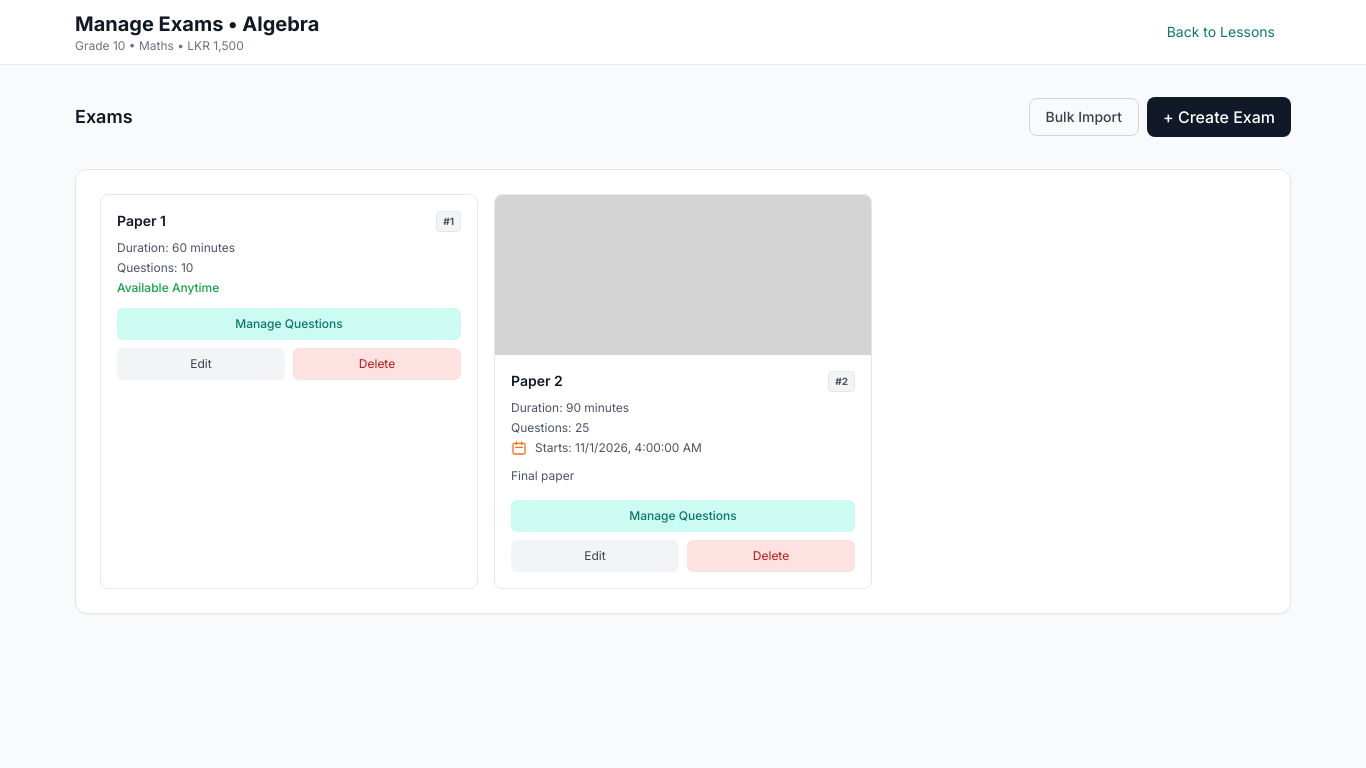
Lesson exams › create › suggests the next order number and creates a scheduled exam
Expected: the heading "Paper 1" is shown, [117,211,166,231]
Click the button "+ Create Exam" at (1219, 117), box [1147,97,1291,137]
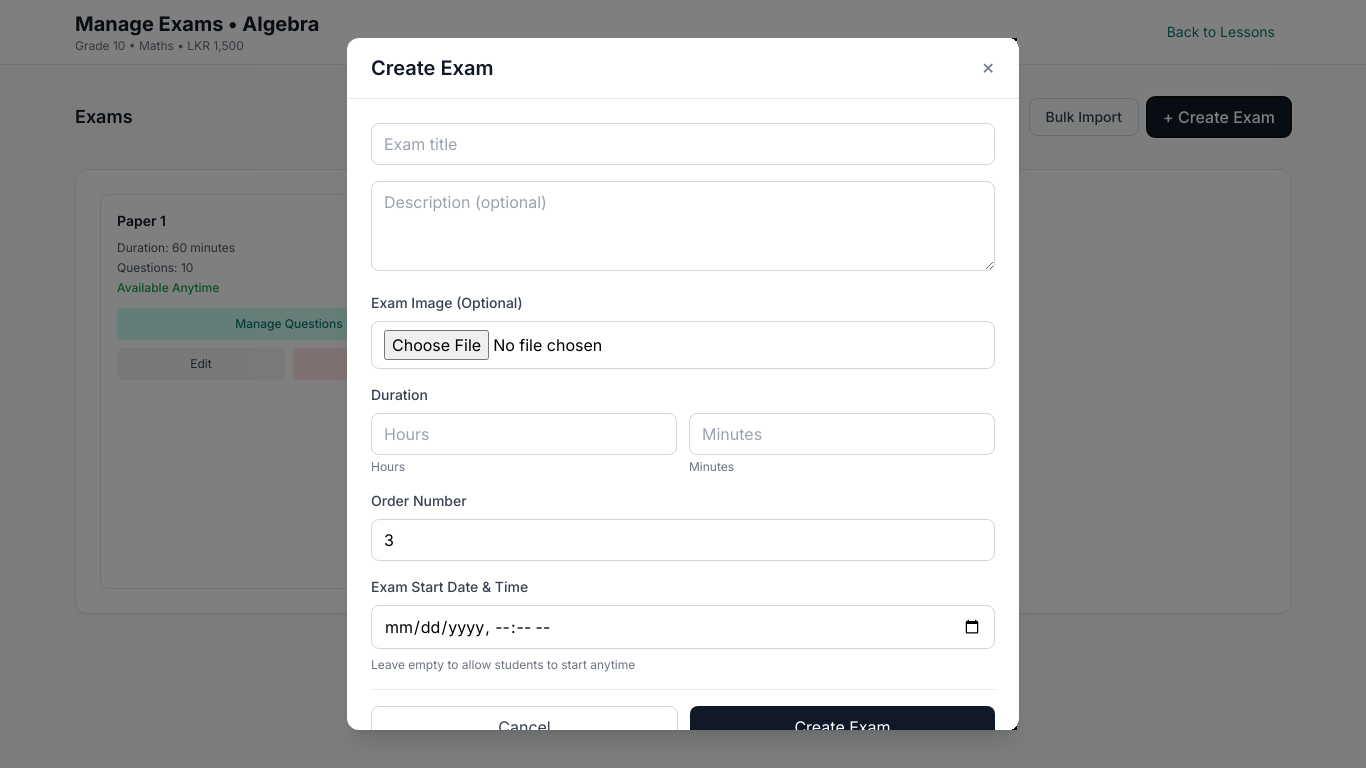
Expected: the number field with placeholder "Enter order number" holds "3", [371,519,995,561]
Type " Paper 3 " into the field with placeholder "Exam title" at (683, 144), box [371,123,995,165]
Type " Mock " into the text box with placeholder "Description (optional)" at (683, 226), box [371,181,995,271]
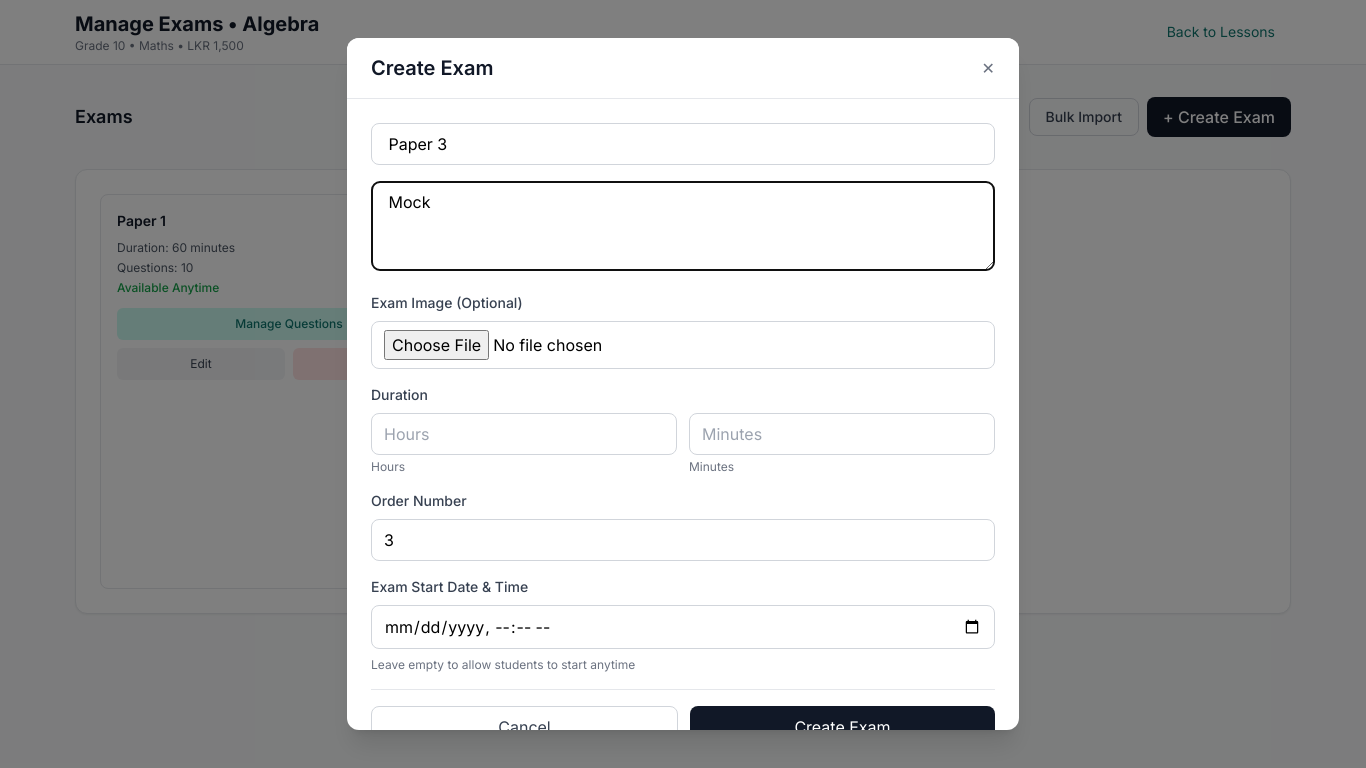
Type "1" into the number field with placeholder "Hours" at (524, 434), box [371,413,677,455]
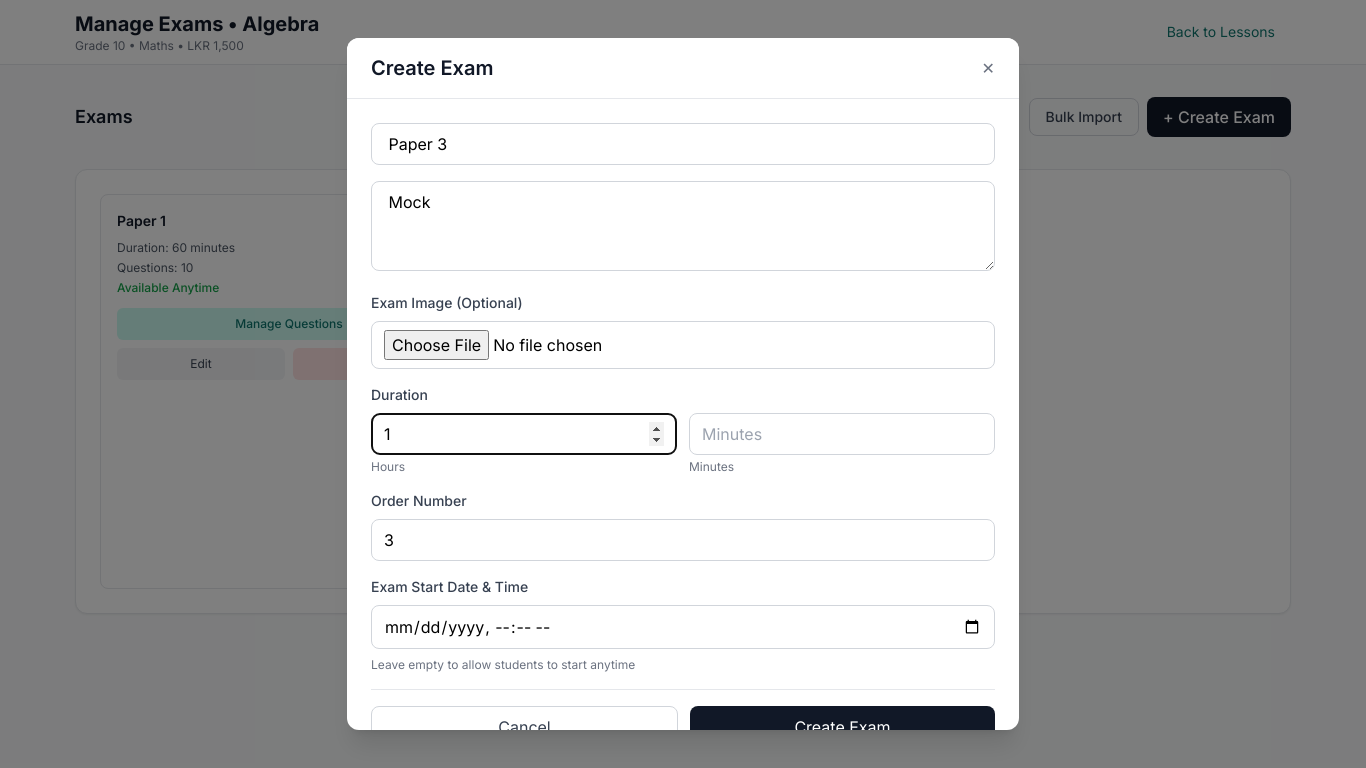
Type "30" into the number field with placeholder "Minutes" at (842, 434), box [689,413,995,455]
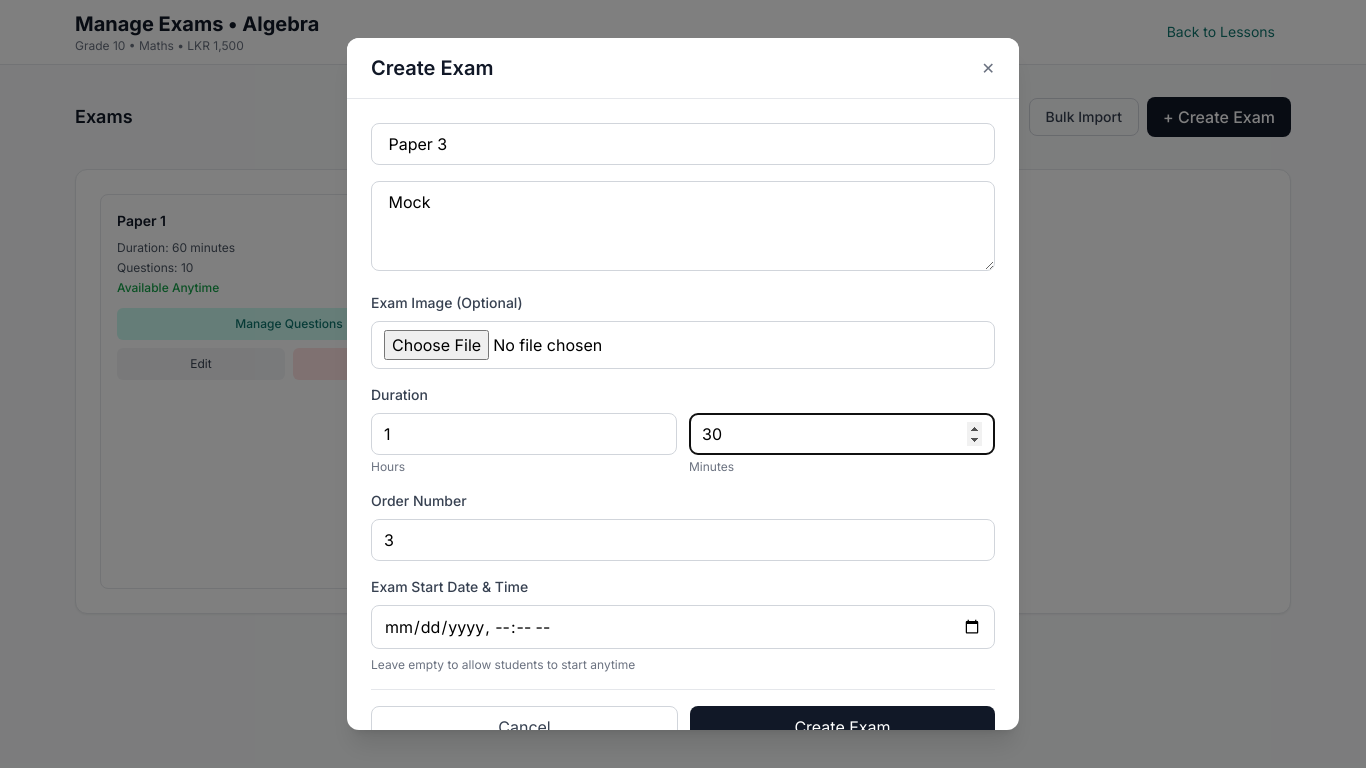
Type "2026-12-01T09:30" into the field below "Exam Start Date & Time" at (683, 627), box [371,605,995,649]
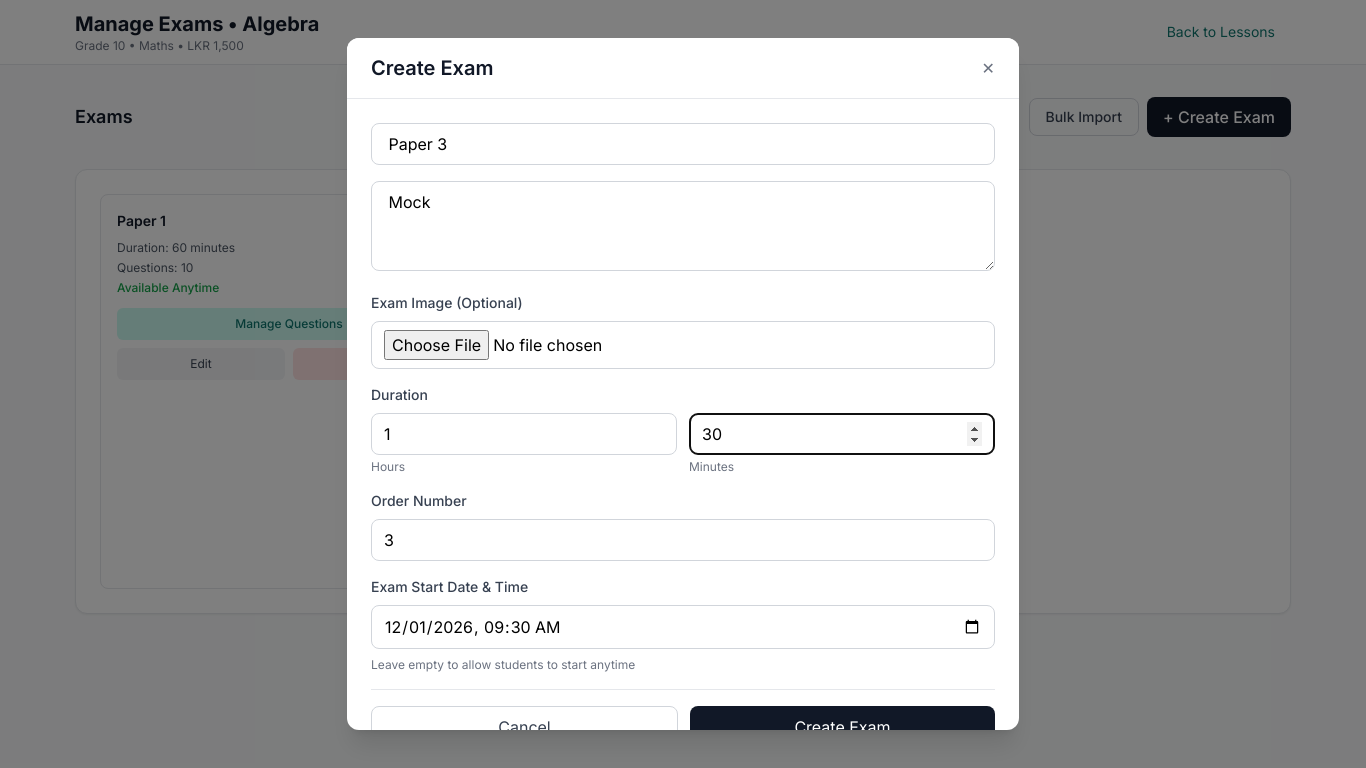
Click the button "Create Exam" at (842, 727), box [690,706,995,748]
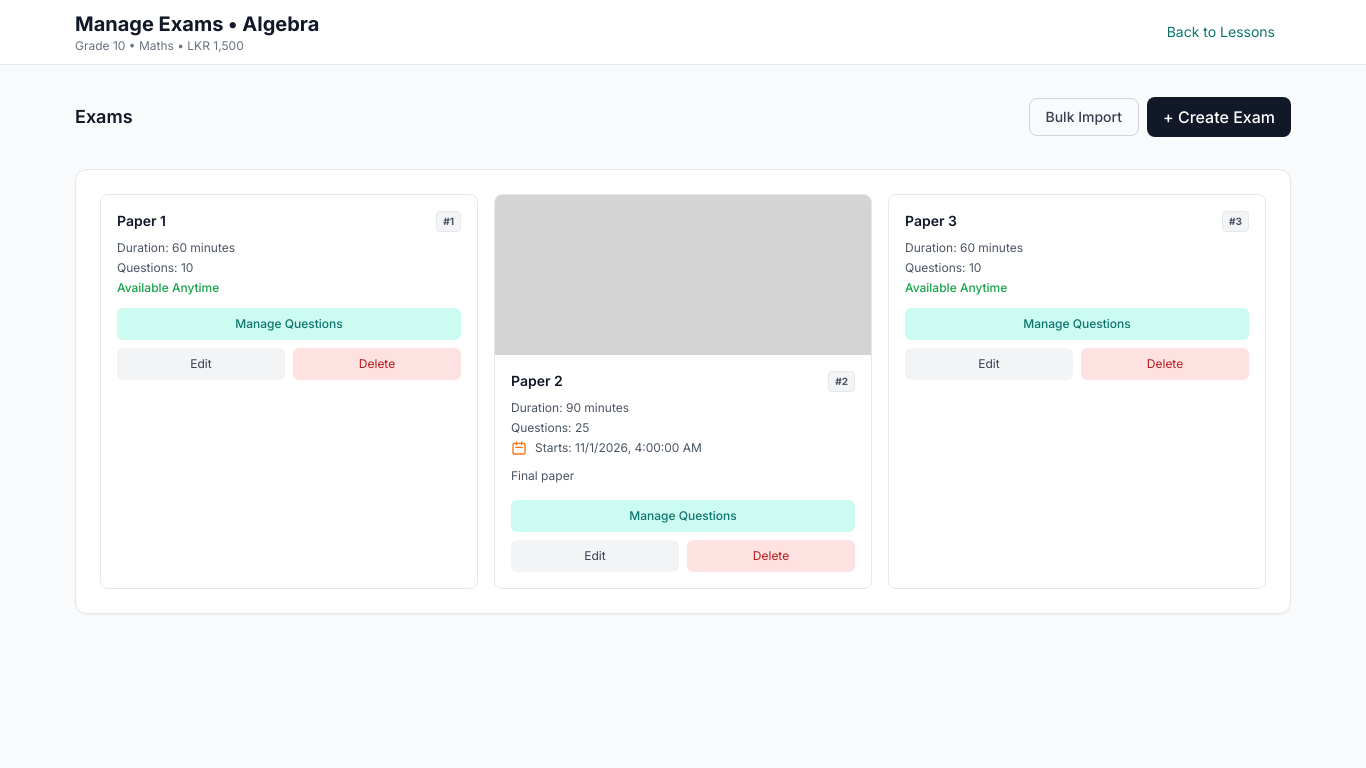
Expected: the heading "Paper 3" is shown, [905,211,957,231]
